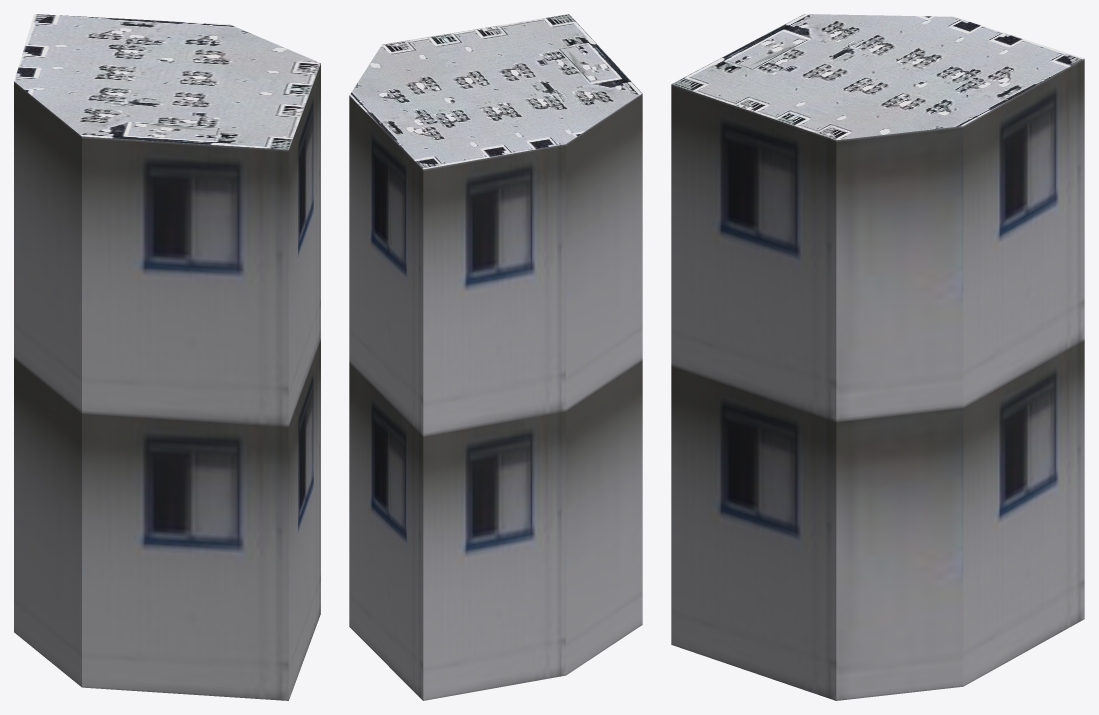
The model's file is ResTex__1983.fbx.
3 views of the same model, side by side, from view 1: azimuth 30°, elevation 25°; view 2: azimuth 150°, elevation 25°; view 3: azimuth 270°, elevation 25° (orthographic). The views are drawn at different scales.
Parts seen in each view (by area): view 1: CityEngineMaterial_9_m, CityEngineMaterial_m; view 2: CityEngineMaterial_9_m, CityEngineMaterial_m; view 3: CityEngineMaterial_9_m, CityEngineMaterial_m.
Part boxes in pixels (box(x1,y1,x2,y2)): CityEngineMaterial_9_m: box(14, 63, 320, 700); CityEngineMaterial_m: box(14, 14, 320, 149); CityEngineMaterial_9_m: box(349, 93, 642, 700); CityEngineMaterial_m: box(349, 14, 642, 169); CityEngineMaterial_9_m: box(671, 58, 1084, 700); CityEngineMaterial_m: box(671, 14, 1083, 140).
Size of the model in its own units: 2.9 by 6 by 4.01.
Materials: 2 (2 with a texture image).
